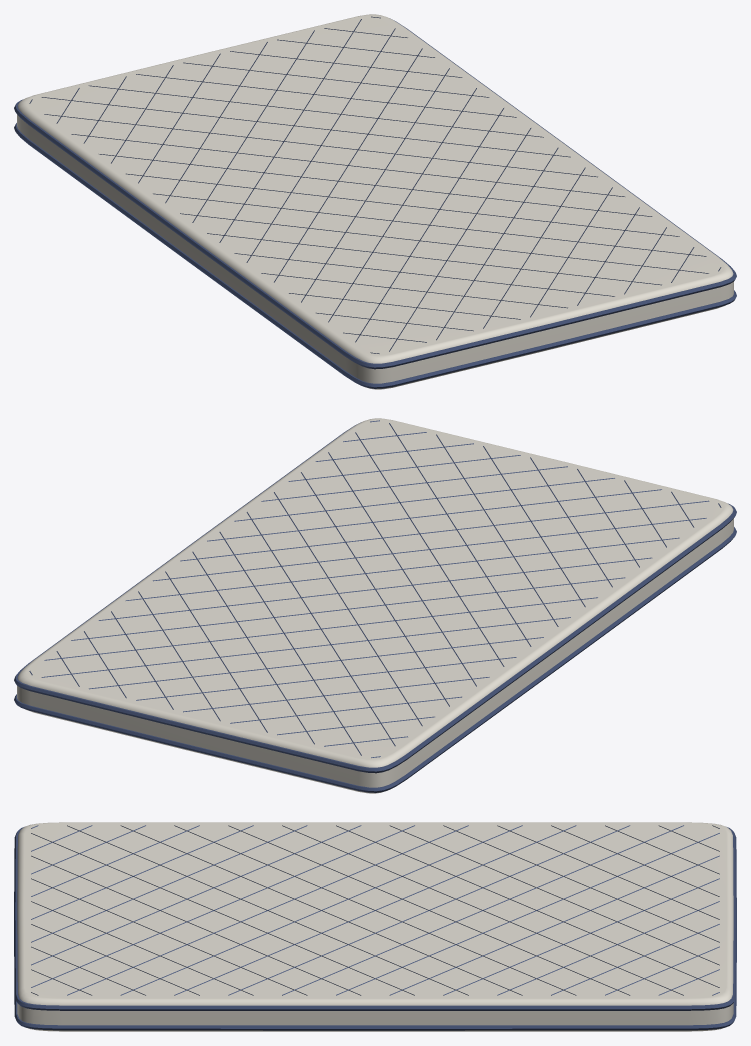
The model's file is nem_xo_dua_120.glb.
3 renders of one model, top to bottom at view 1: azimuth 30°, elevation 25°; view 2: azimuth 150°, elevation 25°; view 3: azimuth 270°, elevation 25°, orthographic.
Parts seen in each view (by area): view 1: nem_xo_dua_120; view 2: nem_xo_dua_120; view 3: nem_xo_dua_120.
Part boxes in pixels (bbox=[...]): nem_xo_dua_120: bbox=[14, 14, 736, 389]; nem_xo_dua_120: bbox=[14, 418, 736, 793]; nem_xo_dua_120: bbox=[14, 822, 736, 1031].
Size of the model in its own units: 1.22 by 0.1018 by 2.02.
